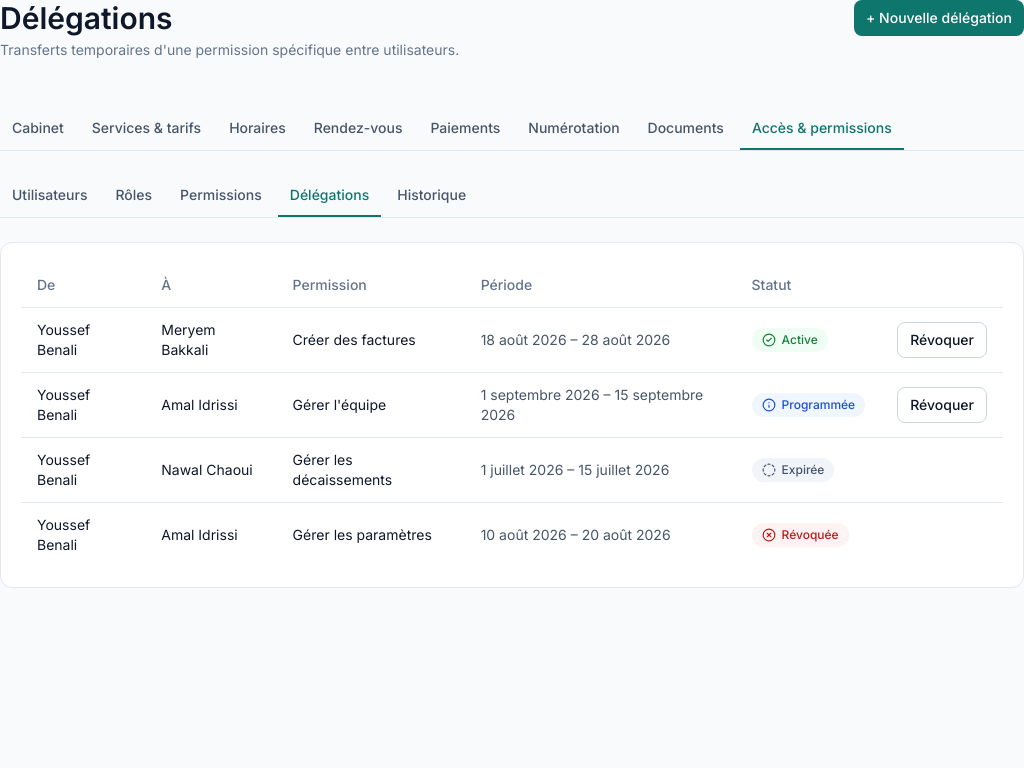
DelegationsPage › rejects creating a delegation for a non-delegatable permission
Click the button "+ Nouvelle délégation" at (939, 18), box [854,0,1023,36]
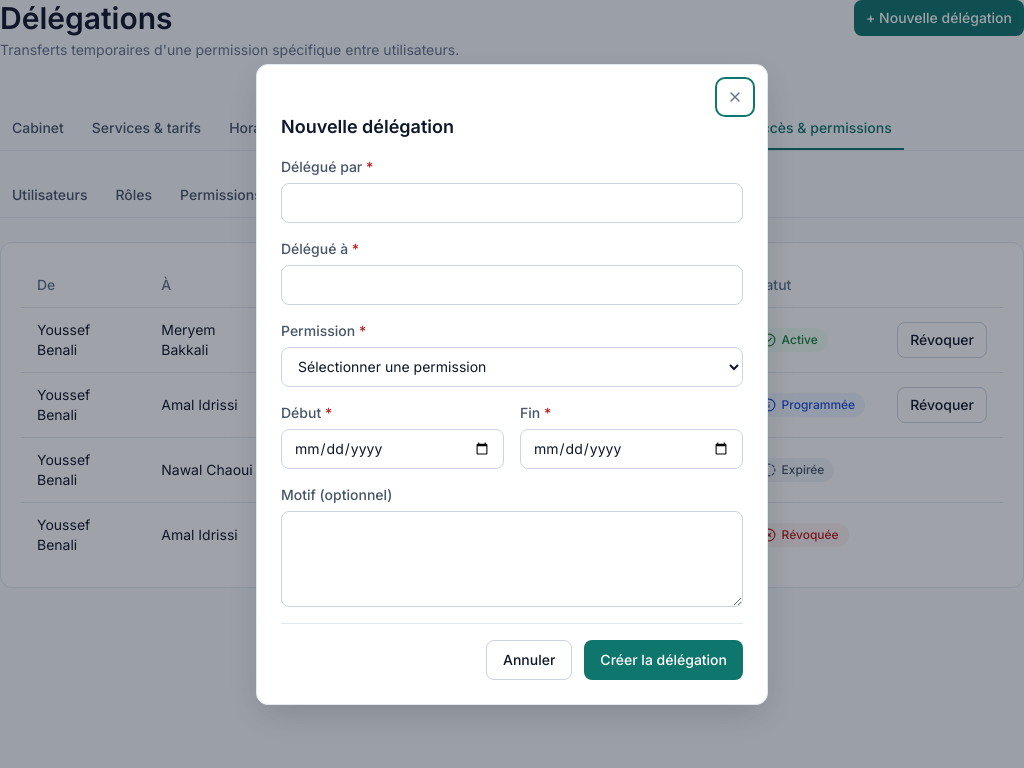
Type "Youssef" into the dropdown labelled "Délégué par *" at (512, 202), box [281,182,743,222]
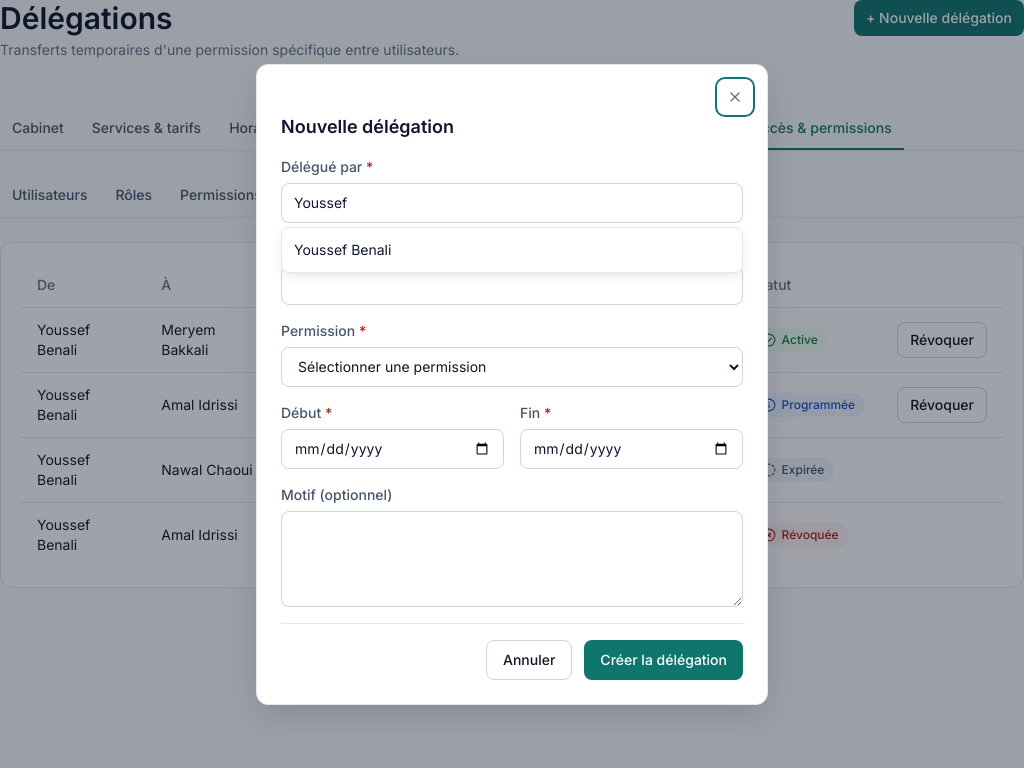
Click the option "Youssef Benali" at (343, 249), box [294,240,391,258]
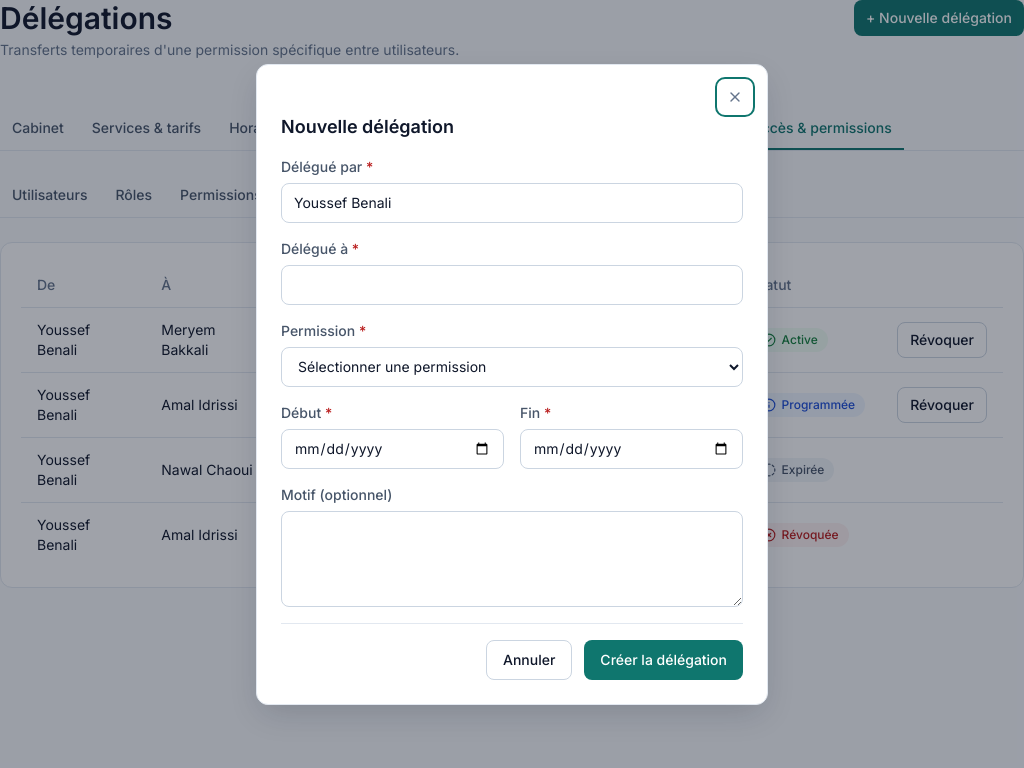
Type "Amal" into the dropdown labelled "Délégué à *" at (512, 284), box [281,264,743,304]
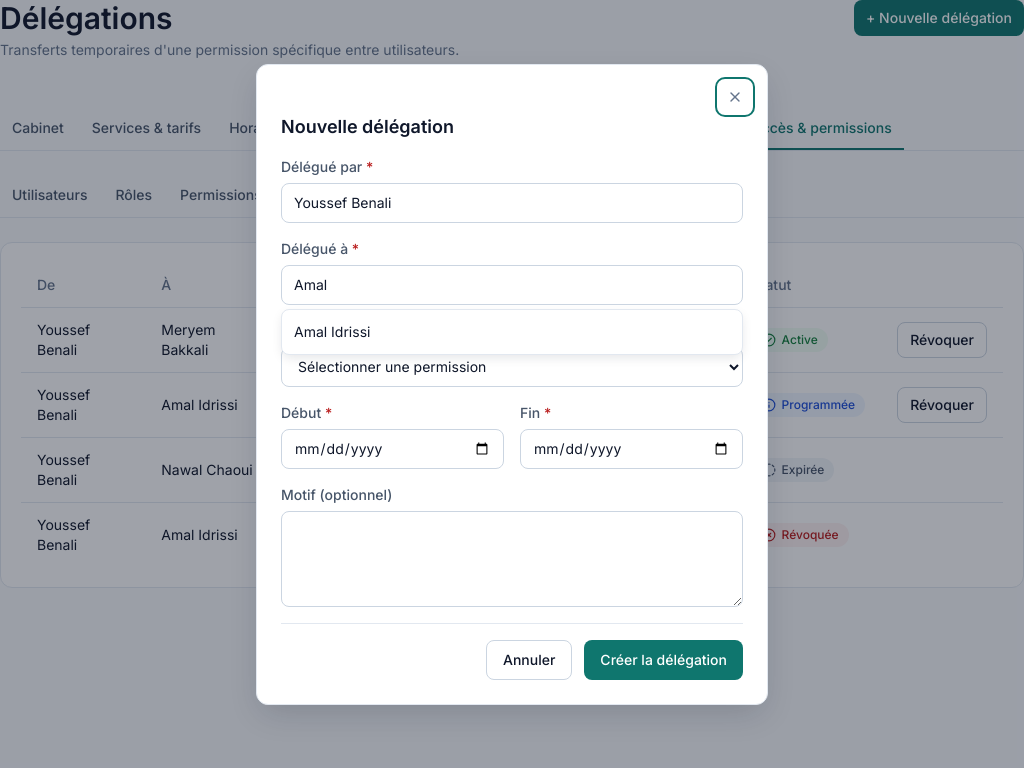
Click the option "Amal Idrissi" at (332, 331), box [294,322,370,340]
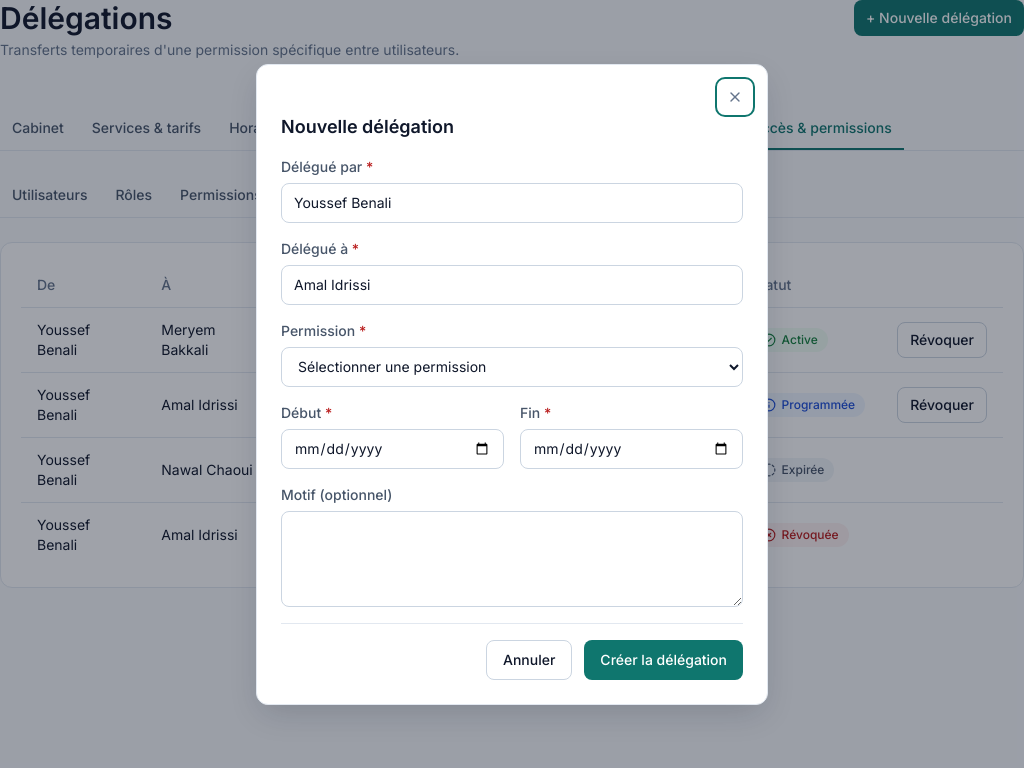
Type "2026-10-01" into the date field labelled "Début *" at (392, 448), box [281,428,504,468]
Type "2026-10-10" into the date field labelled "Fin *" at (632, 448), box [520,428,743,468]
Click the button "Créer la délégation" at (664, 660), box [584,640,743,680]
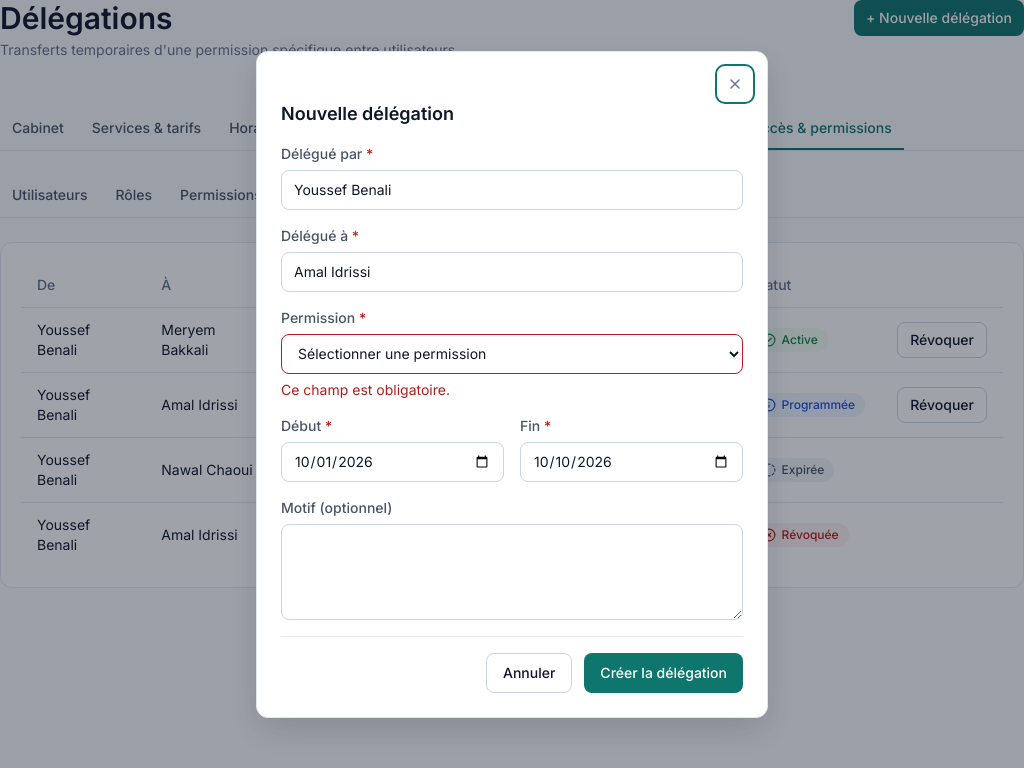
expect the text "Ce champ est obligatoire." is shown: met, box [281,380,450,398]
